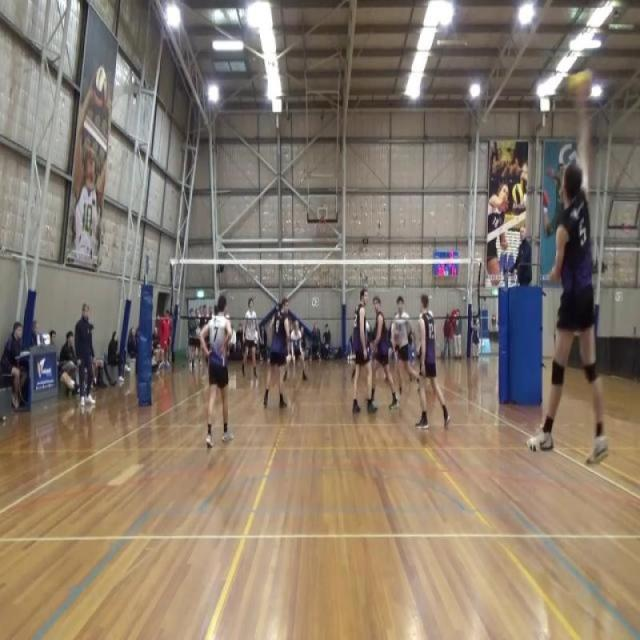volleyball: (565, 72, 593, 98), (94, 66, 108, 111), (512, 182, 523, 205)
